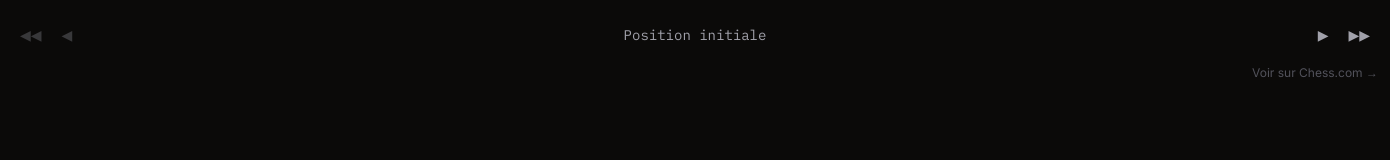
Test: BoardViewer — avec PGN › passe au coup suivant sur ▶
The width and height of the screenshot is (1390, 160).
What coordinates should you click on to do the following:
click the button named "suivant"
I would click on:
 (1323, 34)
Its box is [1310,20,1336,49].
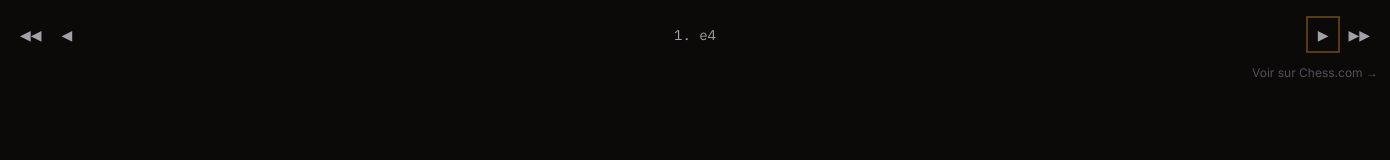
expect the text "1. e4" is shown: met, box [674,26,716,44]
